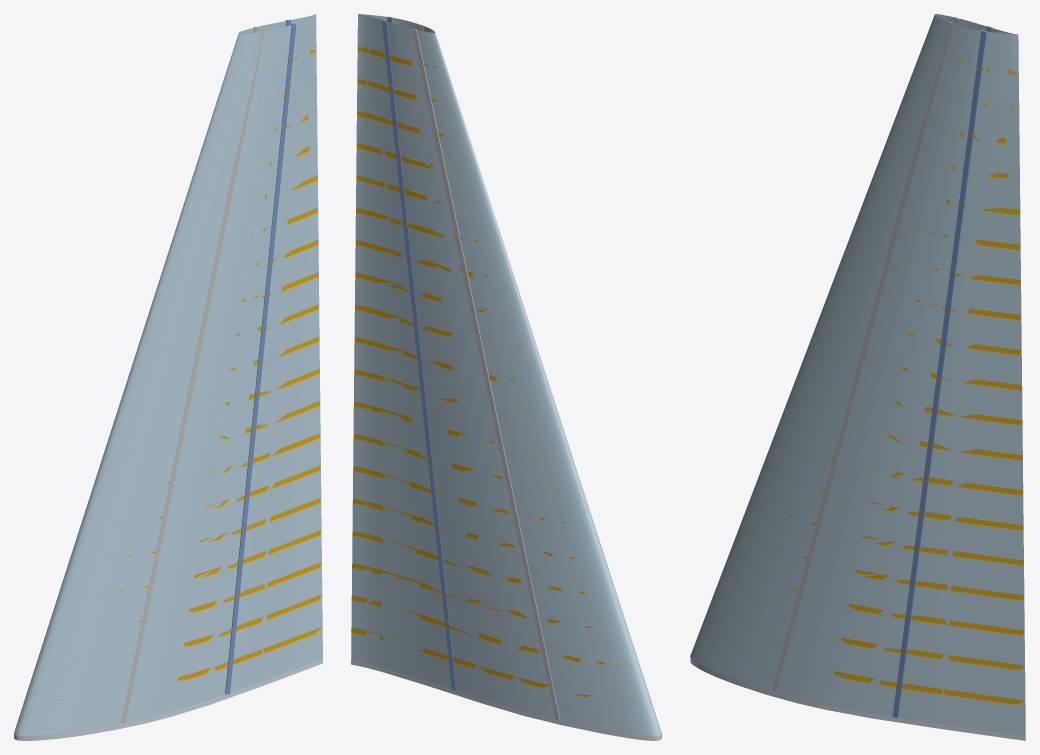
3 views of the same model, side by side, from view 1: azimuth 30°, elevation 25°; view 2: azimuth 150°, elevation 25°; view 3: azimuth 330°, elevation 25° (orthographic). The views are drawn at different scales.
Parts seen in each view (by area): view 1: skin, Part 3, Part 1, Part 5, Part 6, Part 7, Part 8, Part 9, Part 10; view 2: skin, Part 2, Part 4, Part 5, Part 6, Part 7, Part 9, Part 8, Part 10; view 3: skin, Part 3, Part 1, Part 5, Part 6, Part 7, Part 8, Part 9, Part 10, Part 11, Part 12.
Boxes of the visible parts, x1,y1,x2,y2 form: skin: [14, 14, 322, 735]; Part 3: [225, 23, 296, 694]; Part 1: [121, 31, 264, 723]; Part 5: [14, 659, 322, 740]; Part 6: [55, 627, 321, 700]; Part 7: [66, 594, 321, 665]; Part 8: [110, 562, 321, 625]; Part 9: [87, 530, 321, 594]; Part 10: [109, 497, 320, 558]; skin: [351, 14, 661, 735]; Part 2: [412, 29, 560, 719]; Part 4: [382, 20, 456, 690]; Part 5: [351, 659, 661, 740]; Part 6: [351, 627, 638, 700]; Part 7: [352, 595, 631, 665]; Part 9: [352, 530, 596, 594]; Part 8: [352, 563, 616, 630]; Part 10: [353, 498, 586, 559]; skin: [690, 14, 1025, 735]; Part 3: [892, 30, 986, 717]; Part 1: [772, 21, 952, 692]; Part 5: [690, 657, 1025, 740]; Part 6: [717, 634, 1024, 704]; Part 7: [729, 602, 1024, 669]; Part 8: [769, 581, 1024, 635]; Part 9: [763, 542, 1024, 600]; Part 10: [774, 509, 1023, 565]; Part 11: [785, 476, 1023, 530]; Part 12: [831, 456, 1022, 495].
Bounding box in the file's own units: 0.4 × 0.8067 × 0.0609.
